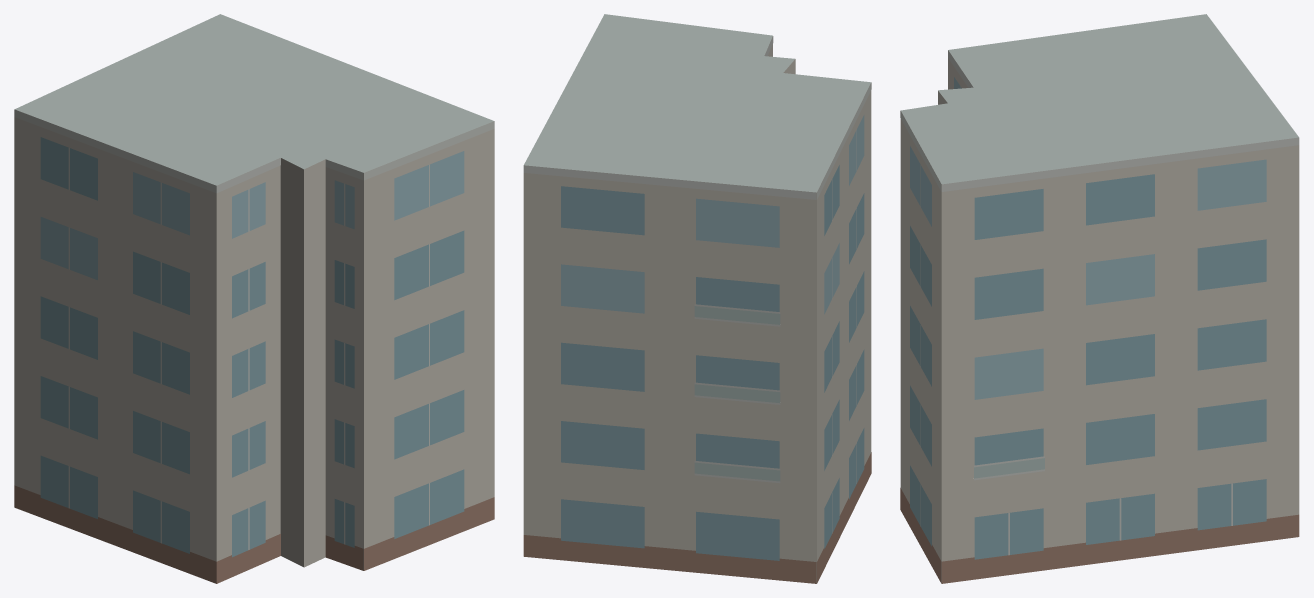
The model's file is survey-upis-32749605.glb.
The picture shows the model from 3 angles, left to right: view 1: azimuth 30°, elevation 25°; view 2: azimuth 150°, elevation 25°; view 3: azimuth 270°, elevation 25°; orthographic projection. The views are drawn at different scales.
Visible parts, largest first — view 1: survey-upis-32749605.tmp; view 2: survey-upis-32749605.tmp; view 3: survey-upis-32749605.tmp.
Boxes of the visible parts, box(x1,y1,x2,y2) form: survey-upis-32749605.tmp: box(14, 14, 494, 583); survey-upis-32749605.tmp: box(523, 14, 871, 583); survey-upis-32749605.tmp: box(900, 14, 1299, 583).
Size of the model in its own units: 11.63 by 12.7 by 11.5.
